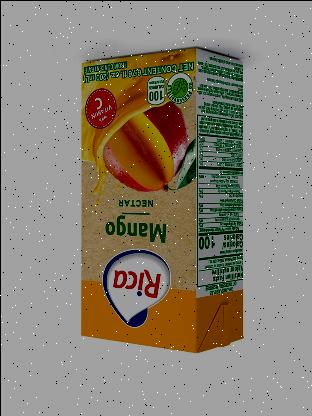Others: (76, 44, 248, 354)
